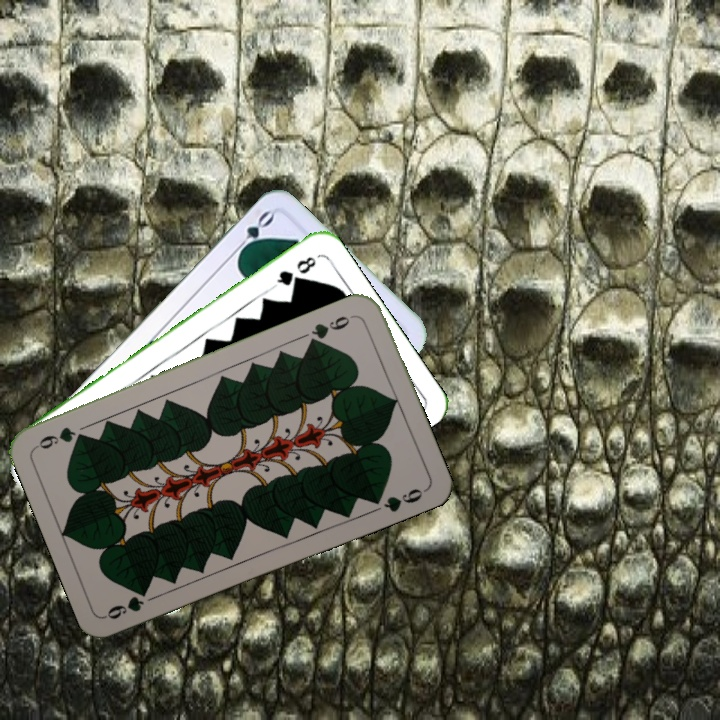G8: (269, 252, 319, 291)
G9: (305, 310, 358, 348), (102, 586, 151, 622)
GO: (229, 206, 277, 259)
